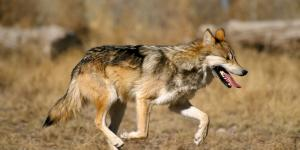Lobo: (48, 25, 250, 142)
